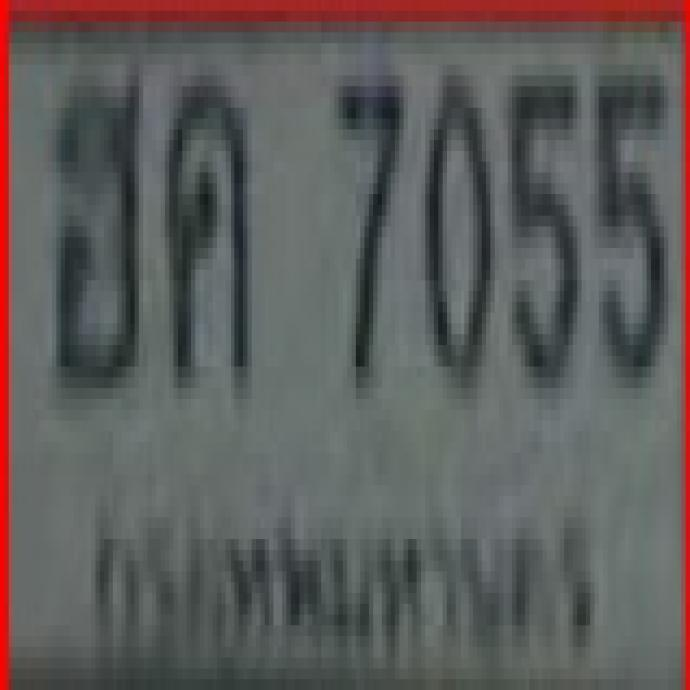0: (421, 63, 488, 378)
5: (504, 65, 573, 378), (591, 63, 660, 374)
7: (334, 69, 398, 376)
A04: (163, 67, 246, 376)
A44: (49, 71, 138, 383)
